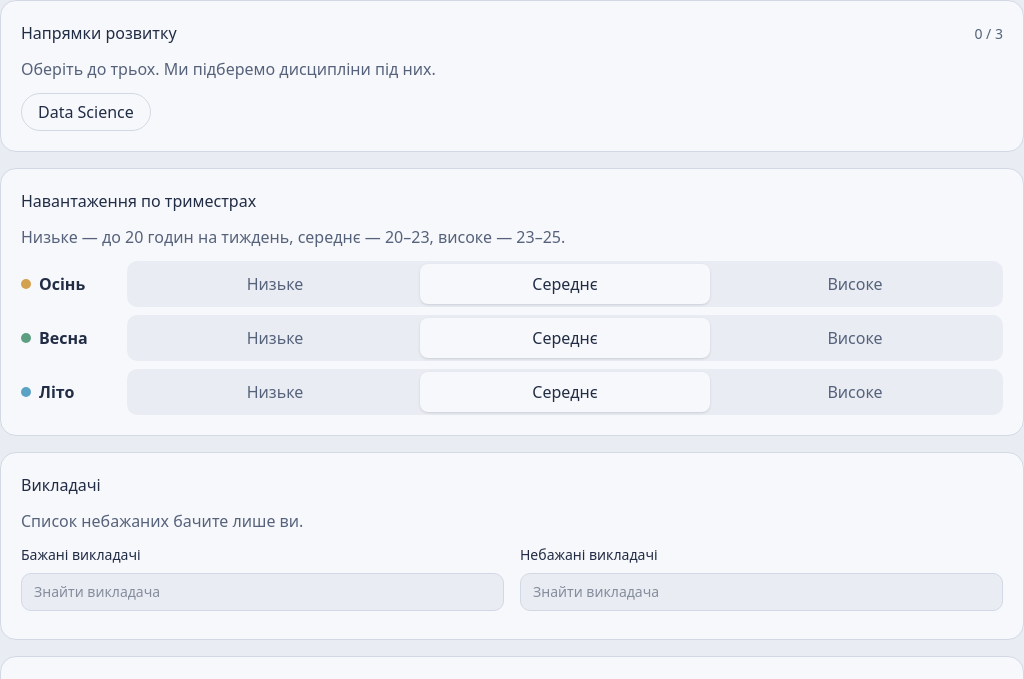
Test: пошук і вибір викладачів › знаходить викладача після паузи й додає його до бажаних
In the search field named "Знайти викладача (бажані)": (262, 592) [21, 573, 504, 611], type "Пет"
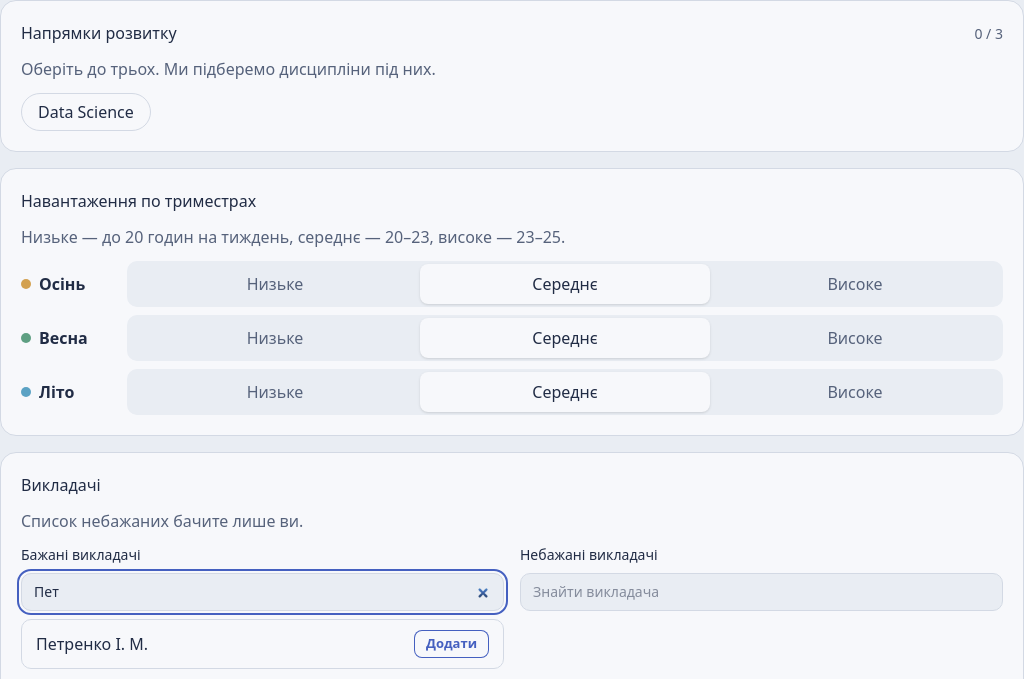
Click the button with aria-label "Додати Петренко І. М.": (452, 644) [414, 630, 489, 658]
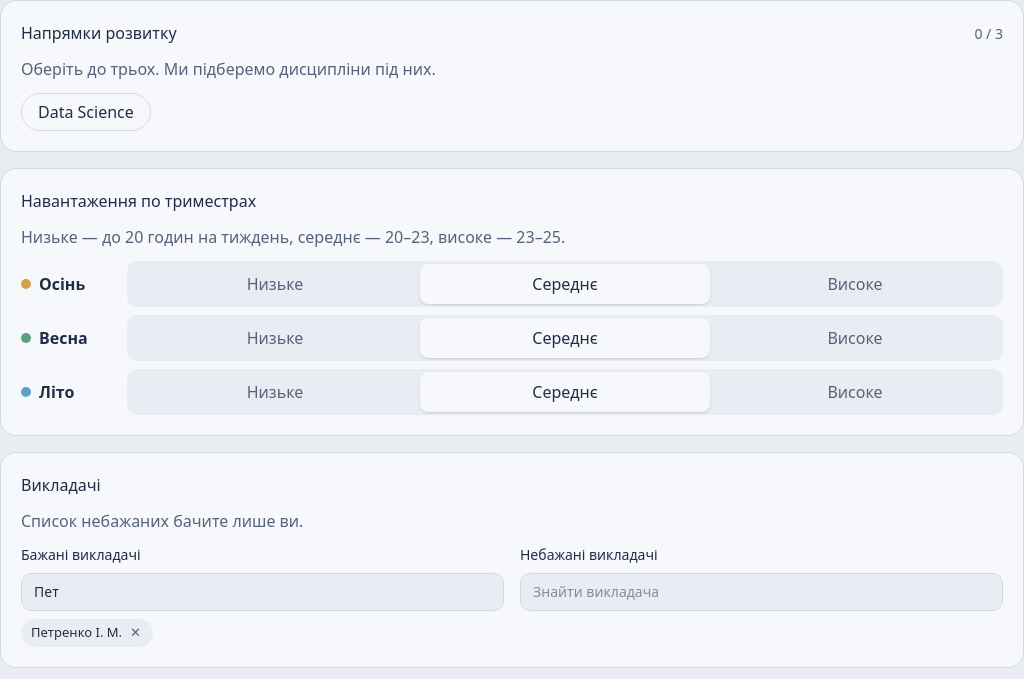
Result: the text "Петренко І. М." is shown at [31, 623, 122, 641]
